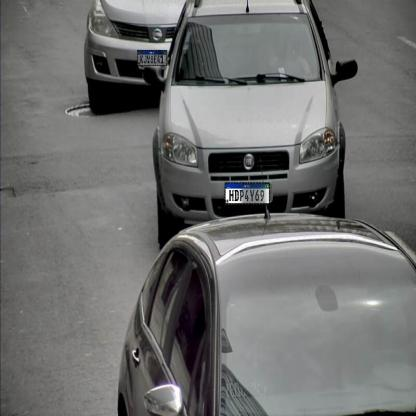PlacaM: (225, 182, 270, 204), (137, 50, 167, 66)
